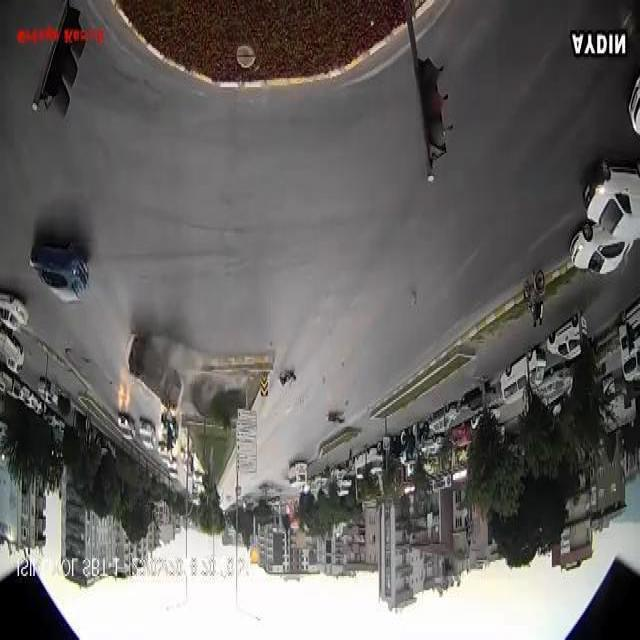severe: (124, 326, 194, 422)
